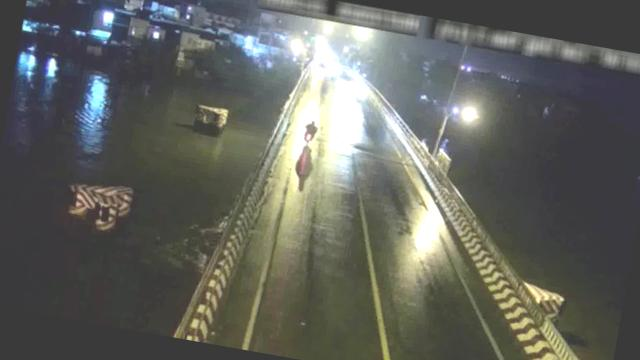Bike: (301, 116, 320, 142)
